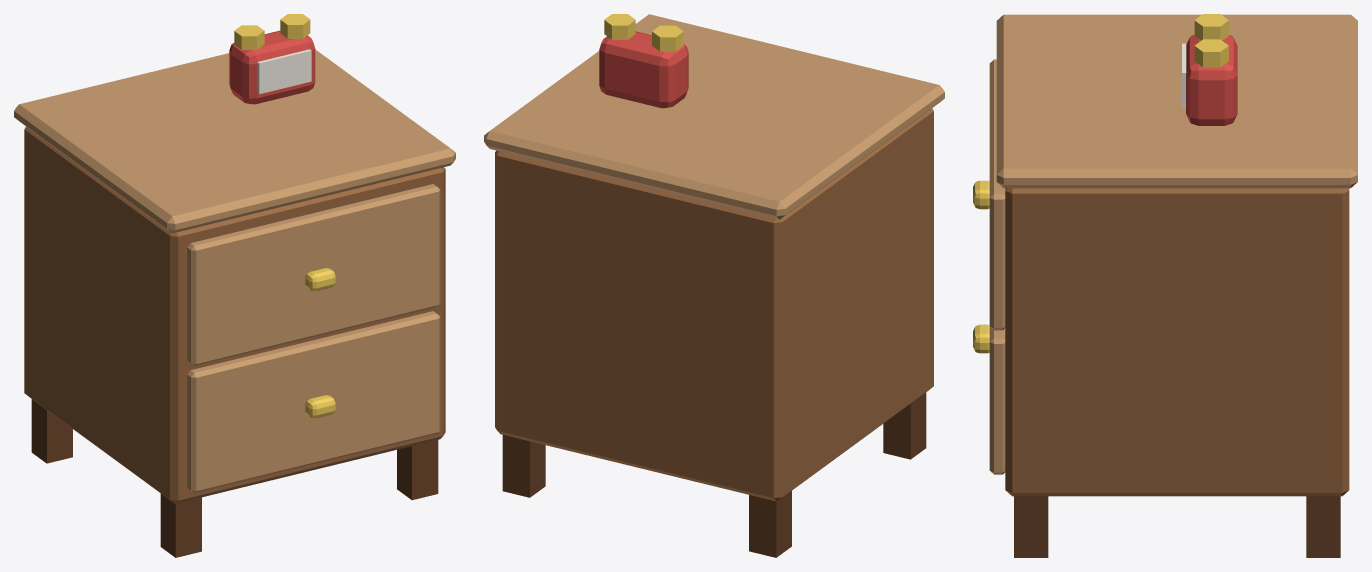
The model's file is nightstand.glb.
The picture shows the model from 3 angles, left to right: view 1: azimuth 30°, elevation 25°; view 2: azimuth 150°, elevation 25°; view 3: azimuth 270°, elevation 25°; orthographic projection. The views are drawn at different scales.
Visible parts, largest first — view 1: nightstand; view 2: nightstand; view 3: nightstand.
Boxes of the visible parts, x1,y1,x2,y2 form: nightstand: (14,14,455,557); nightstand: (484,14,944,557); nightstand: (973,14,1357,557).
Size of the model in its own units: 0.44 by 0.6175 by 0.4475.
Materials: 1 (1 with a texture image).
